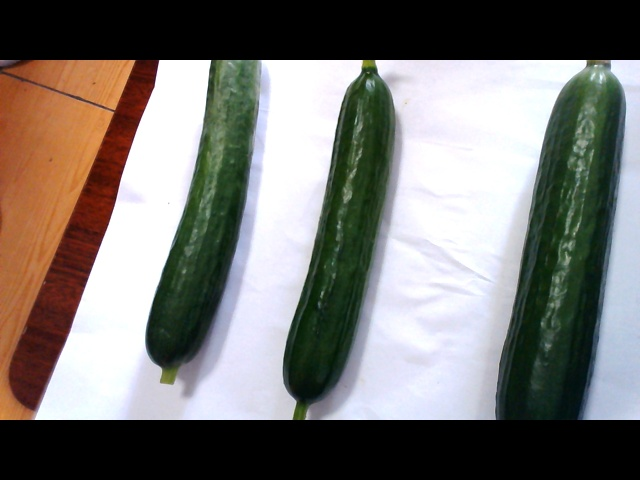cucumber: (488, 61, 631, 416), (277, 56, 397, 422), (145, 55, 273, 374)
